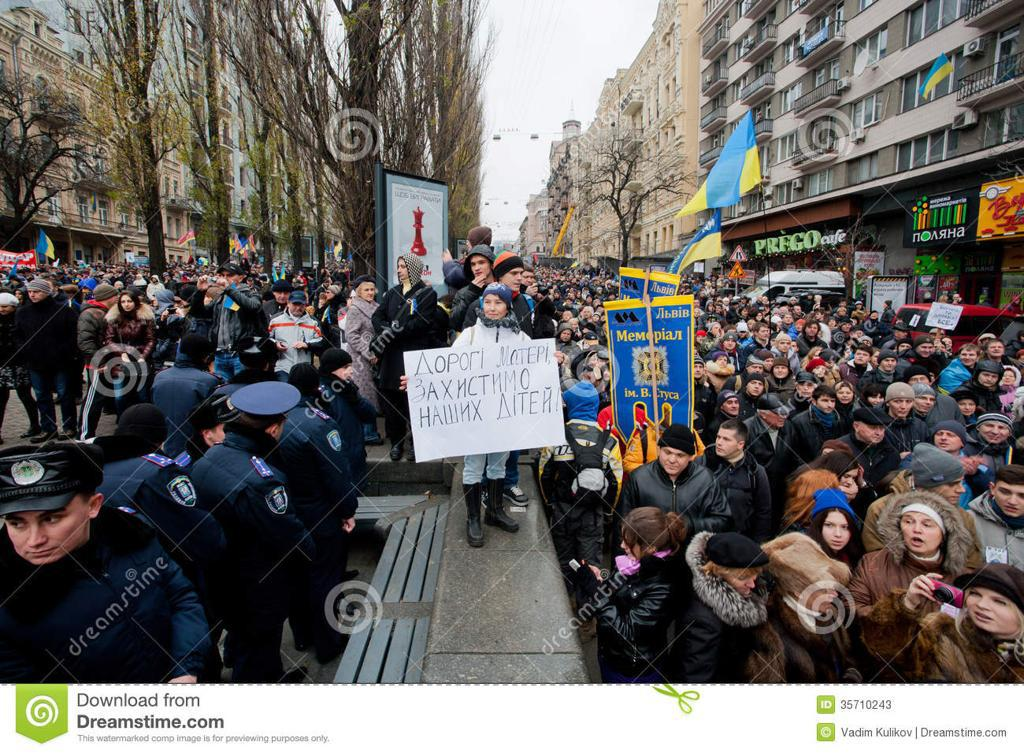face: (3, 499, 83, 565), (967, 587, 1018, 635), (901, 512, 942, 553), (996, 482, 1024, 518), (823, 517, 850, 551), (728, 565, 759, 594), (660, 447, 689, 475), (621, 530, 646, 561), (941, 476, 966, 506), (981, 422, 1009, 444), (934, 430, 960, 452), (213, 419, 233, 447), (484, 297, 506, 322), (861, 423, 885, 444), (716, 433, 737, 457), (504, 268, 524, 291), (915, 392, 936, 413), (891, 398, 913, 418), (471, 258, 490, 281), (839, 468, 858, 490), (822, 450, 841, 471), (909, 375, 930, 393), (271, 416, 285, 443), (220, 271, 239, 290), (337, 362, 353, 384), (817, 396, 836, 414), (767, 409, 785, 428), (979, 373, 999, 388), (724, 398, 740, 416), (28, 287, 46, 303), (959, 400, 976, 416), (837, 389, 854, 404), (799, 381, 814, 398), (748, 379, 763, 396), (961, 352, 977, 367), (398, 260, 410, 280), (174, 296, 186, 315), (748, 364, 763, 379), (362, 285, 375, 302), (989, 344, 1004, 358), (918, 344, 933, 358), (291, 301, 305, 316), (276, 289, 290, 304), (121, 297, 135, 312), (868, 395, 884, 408), (883, 358, 897, 372), (855, 351, 869, 365), (774, 367, 789, 379), (899, 344, 912, 357), (778, 341, 791, 354), (522, 274, 535, 287), (1, 303, 14, 316), (1003, 372, 1015, 386), (813, 351, 825, 365), (692, 364, 703, 379), (184, 300, 195, 315), (815, 365, 826, 378), (604, 368, 614, 382), (807, 324, 818, 336), (725, 338, 736, 350), (66, 290, 77, 302), (872, 353, 882, 366), (764, 358, 774, 371), (82, 287, 92, 300), (716, 357, 727, 368), (759, 328, 769, 340), (467, 239, 475, 253), (561, 332, 572, 342), (152, 294, 160, 307), (942, 340, 952, 350), (983, 339, 994, 348), (713, 325, 722, 336), (349, 294, 358, 305), (111, 292, 119, 304), (137, 293, 145, 305), (895, 330, 904, 340), (842, 323, 852, 332), (825, 360, 834, 369), (81, 274, 90, 283), (326, 290, 334, 300), (16, 292, 23, 303), (933, 344, 941, 353), (855, 332, 864, 340), (784, 315, 792, 324), (771, 339, 779, 348), (790, 343, 798, 352), (697, 335, 706, 343), (584, 310, 592, 319), (334, 283, 342, 292), (938, 345, 946, 353), (862, 341, 870, 349), (739, 330, 747, 338), (728, 330, 736, 338), (26, 273, 33, 282), (1, 274, 7, 284), (839, 309, 846, 317), (796, 324, 803, 332), (742, 309, 749, 317), (708, 320, 716, 327), (709, 305, 716, 313), (571, 323, 578, 331), (216, 275, 223, 283), (795, 307, 801, 316), (829, 320, 836, 327), (693, 302, 700, 309), (564, 314, 571, 321), (594, 301, 601, 308), (57, 272, 64, 279), (816, 312, 822, 320), (602, 316, 608, 324), (852, 320, 858, 327), (757, 314, 763, 321), (774, 312, 780, 319), (748, 323, 754, 330), (694, 311, 700, 318), (715, 306, 721, 313), (593, 315, 599, 322), (598, 308, 604, 315), (247, 280, 254, 286), (116, 285, 123, 291), (953, 296, 959, 303), (778, 321, 783, 329), (871, 314, 877, 320), (724, 300, 730, 306), (554, 293, 560, 299), (610, 295, 616, 301), (856, 304, 862, 309), (577, 293, 582, 299), (209, 274, 214, 280), (52, 268, 57, 274), (841, 302, 846, 307), (791, 300, 796, 305), (587, 298, 592, 303), (570, 295, 575, 300), (1021, 355, 1024, 363), (883, 304, 887, 308), (567, 300, 571, 304)
